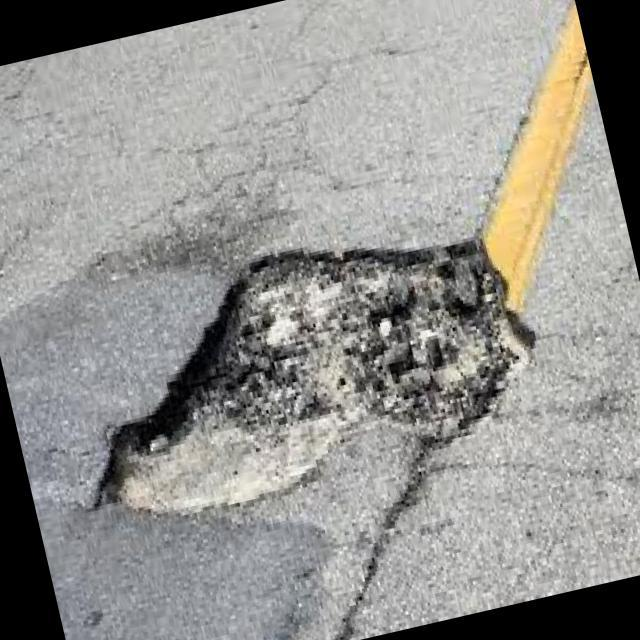pothole: (52, 195, 564, 542)
